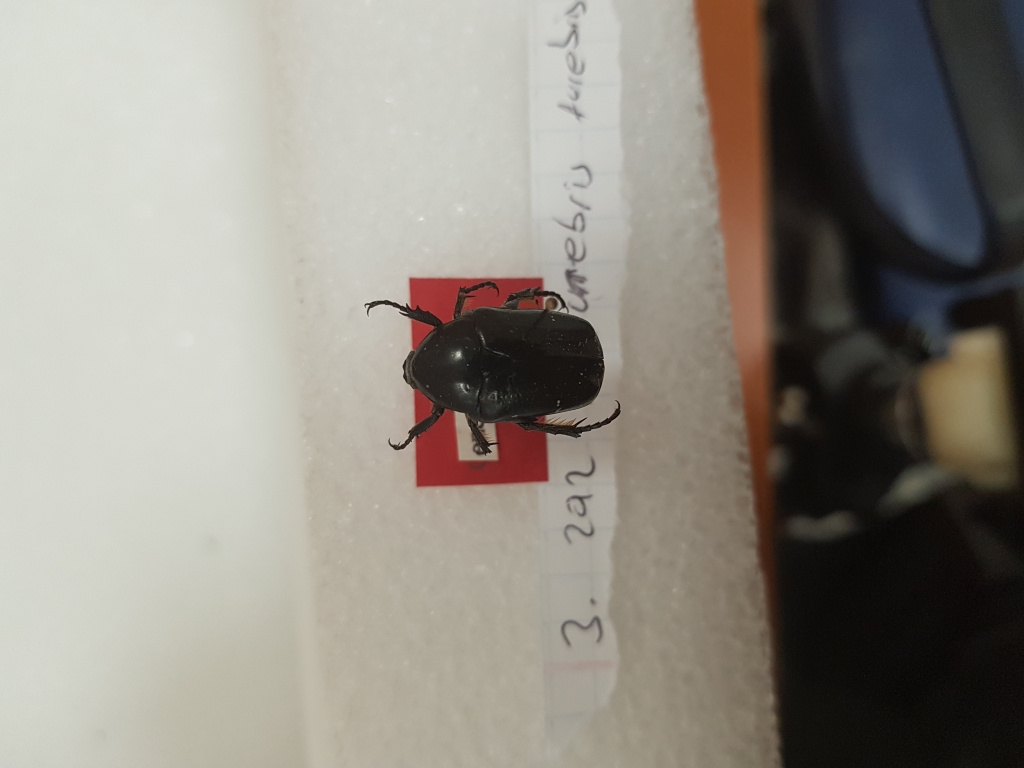Protaetia_funebris_funebris: (359, 272, 646, 469)
